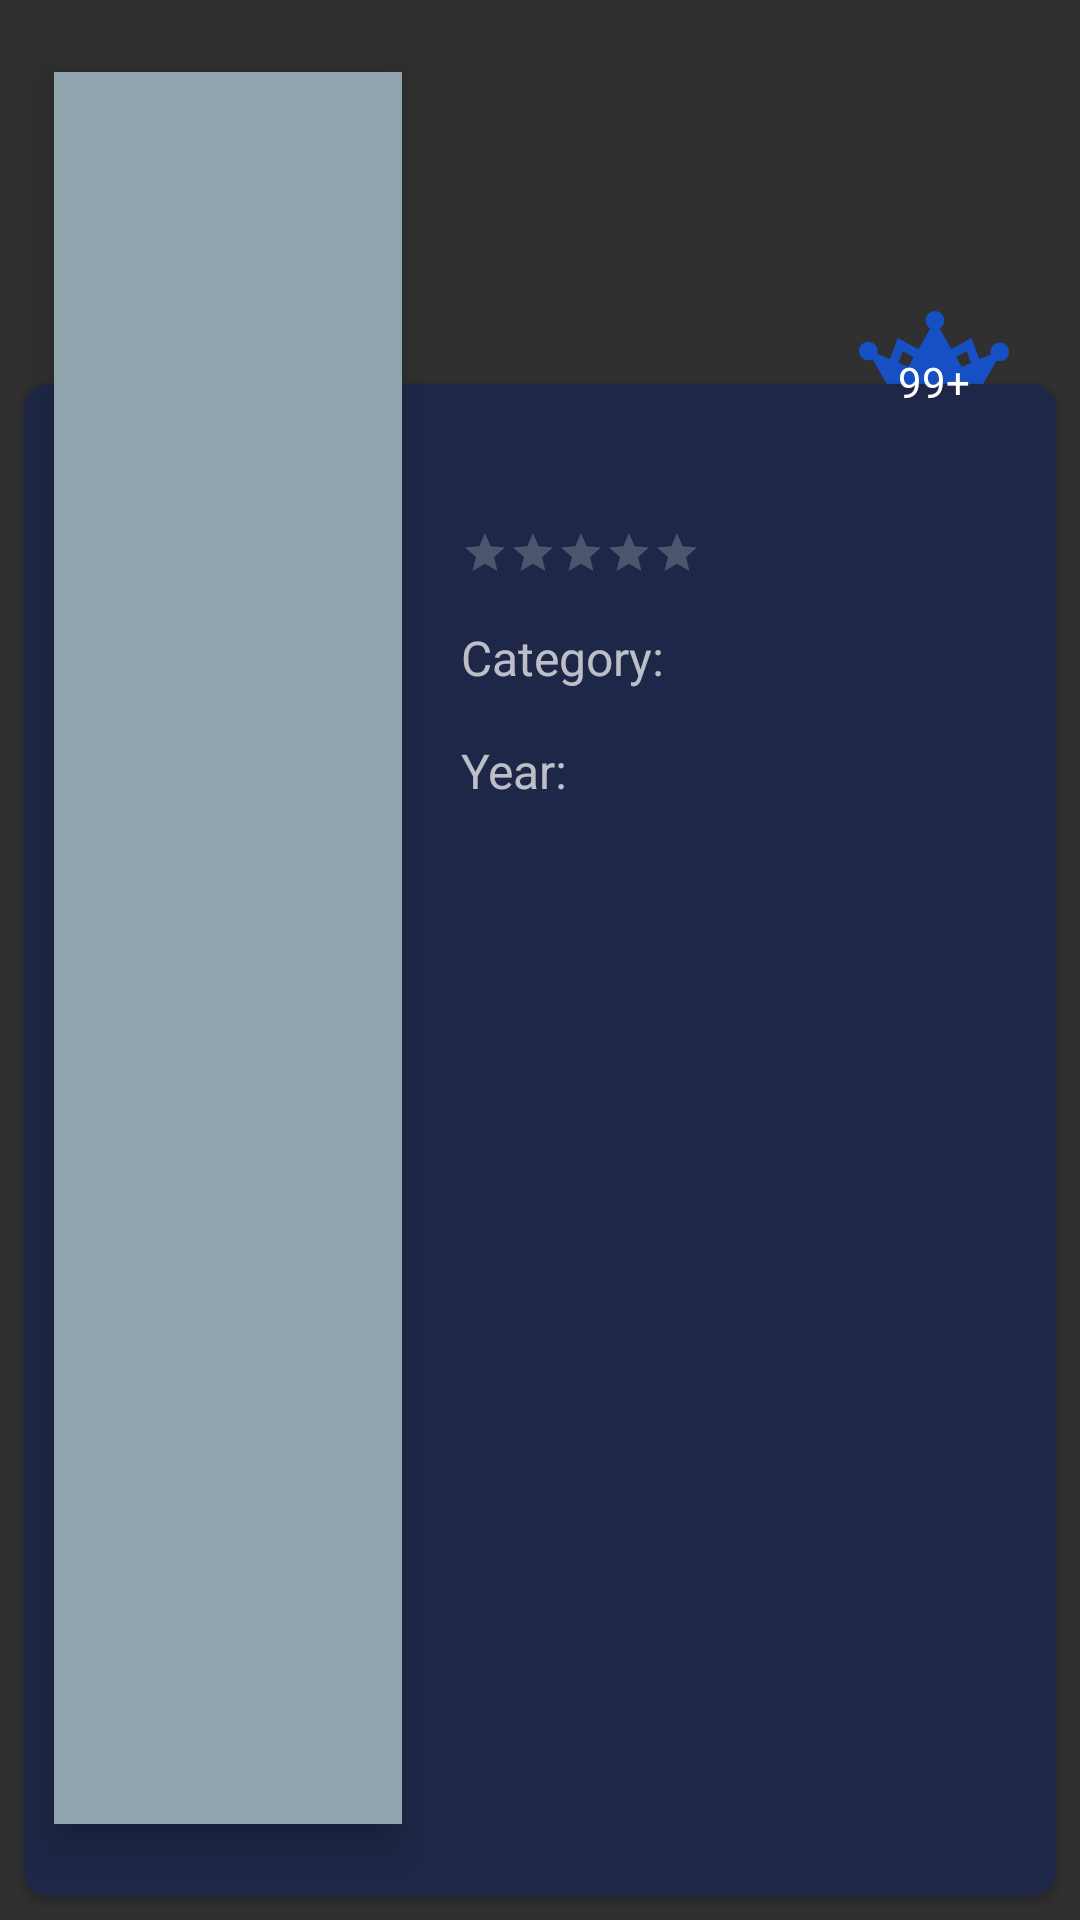

Named icons in this screenshot (1080x1920) and their centers, (x,y):
crown rank: (934,376)
